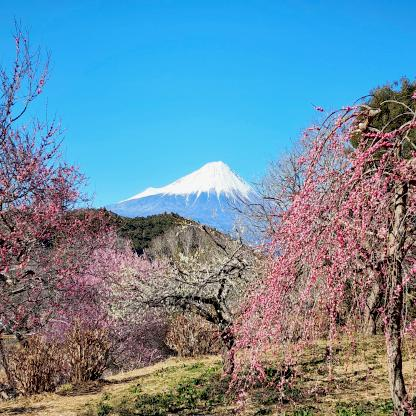Ume: (223, 81, 416, 416), (0, 13, 157, 390), (127, 208, 268, 362)
